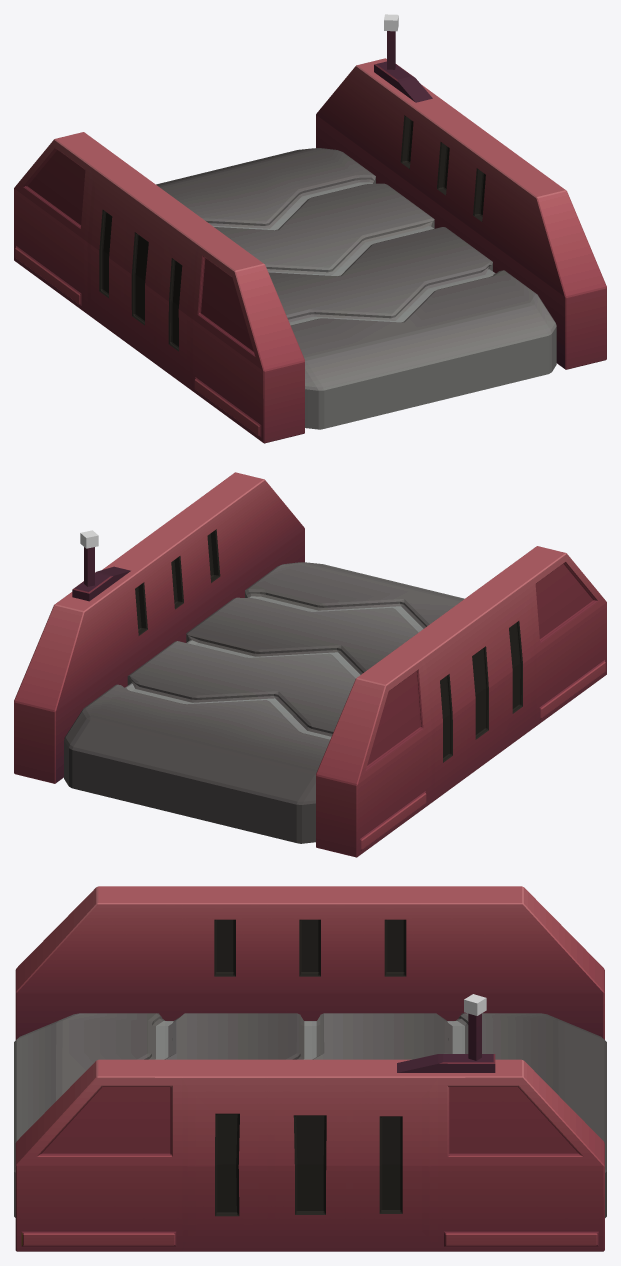
File: Thermal Haul_ConveyorStraight.glb
3 renders of one model, top to bottom at view 1: azimuth 30°, elevation 25°; view 2: azimuth 150°, elevation 25°; view 3: azimuth 270°, elevation 25°, orthographic. The views are drawn at different scales.
Visible parts, largest first — view 1: Conveyor BeltStraight; view 2: Conveyor BeltStraight; view 3: Conveyor BeltStraight.
Part boxes in pixels (x1=…): Conveyor BeltStraight: x1=14, y1=14, x2=606, y2=443; Conveyor BeltStraight: x1=14, y1=472, x2=606, y2=857; Conveyor BeltStraight: x1=14, y1=886, x2=606, y2=1251.
Bounding box in the file's own units: 1.59 × 0.8987 × 2.
2 materials, 1 textured.
